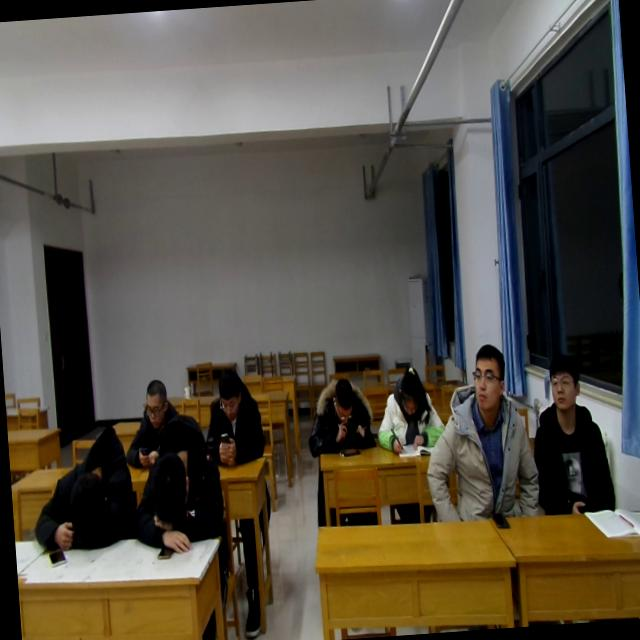bow: (127, 424, 230, 558), (28, 428, 138, 553)
down: (466, 340, 508, 412), (212, 362, 245, 426), (392, 365, 427, 419), (140, 376, 171, 430), (329, 376, 358, 426)
lookup: (542, 344, 584, 414)
sit: (418, 342, 538, 522), (528, 345, 612, 513), (372, 359, 445, 456), (301, 369, 377, 458), (202, 365, 268, 466), (122, 376, 190, 463)
